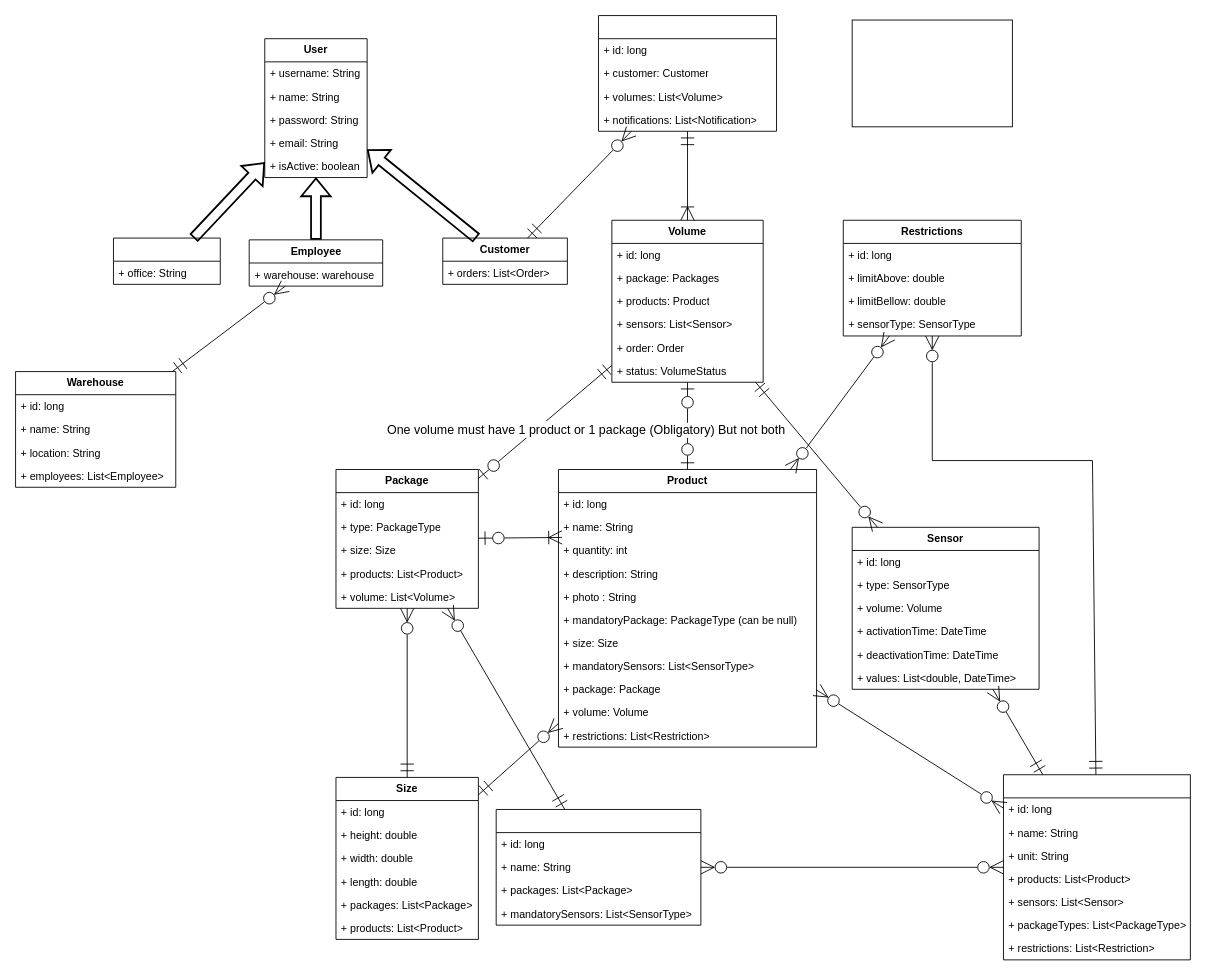
Image size: 1206x978. Some labels were removed from this diagram. The shapes that lost their labels are listed below. From the top down, each one's box as (x1, y1, x2, y2) in pixels, then its label:
(598, 15, 777, 131): Order
(851, 19, 1012, 127): «Enumeration» VolumeStatus PACKED IN_TRANSIT DELIVERED
(113, 237, 220, 284): Manager
(495, 809, 701, 925): PackageType
(1003, 774, 1190, 960): SensorType
